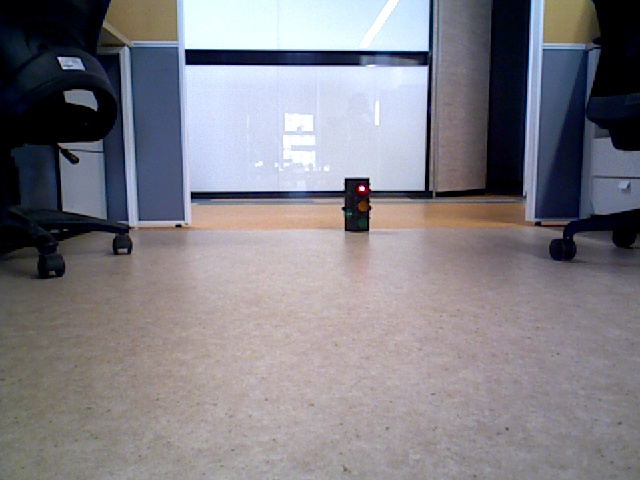red: (344, 176, 370, 230)
